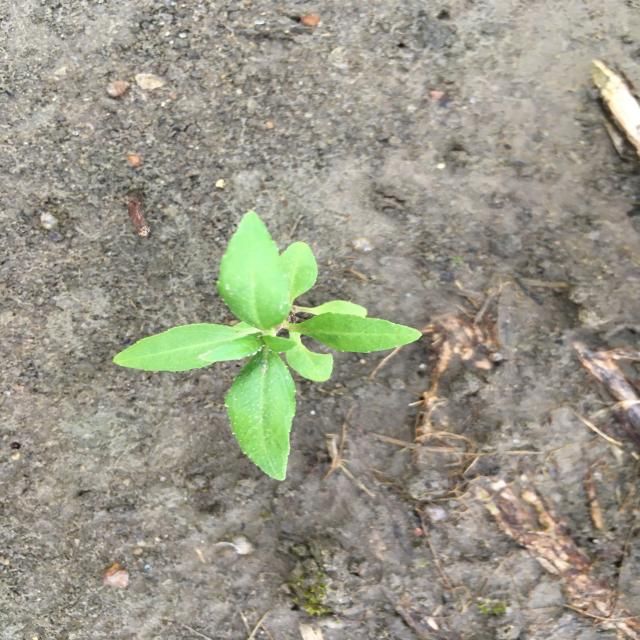Eclipta: (111, 210, 426, 483)
